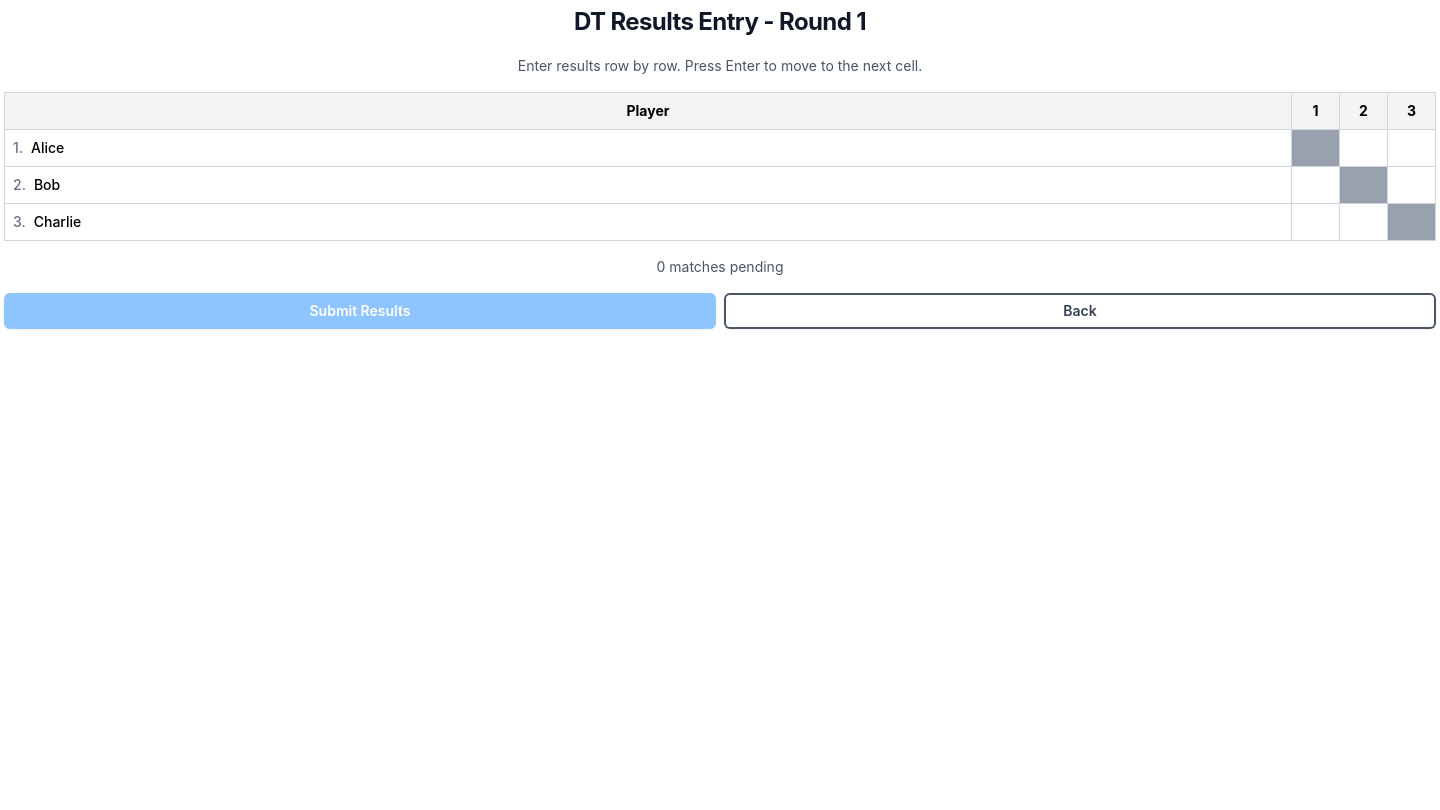
Test: BulkMatchEntry › Draw Detection › should show winner selection dialog when scores are equal
In the 1st number field: (1364, 148) [1340, 136, 1387, 160], type "5"
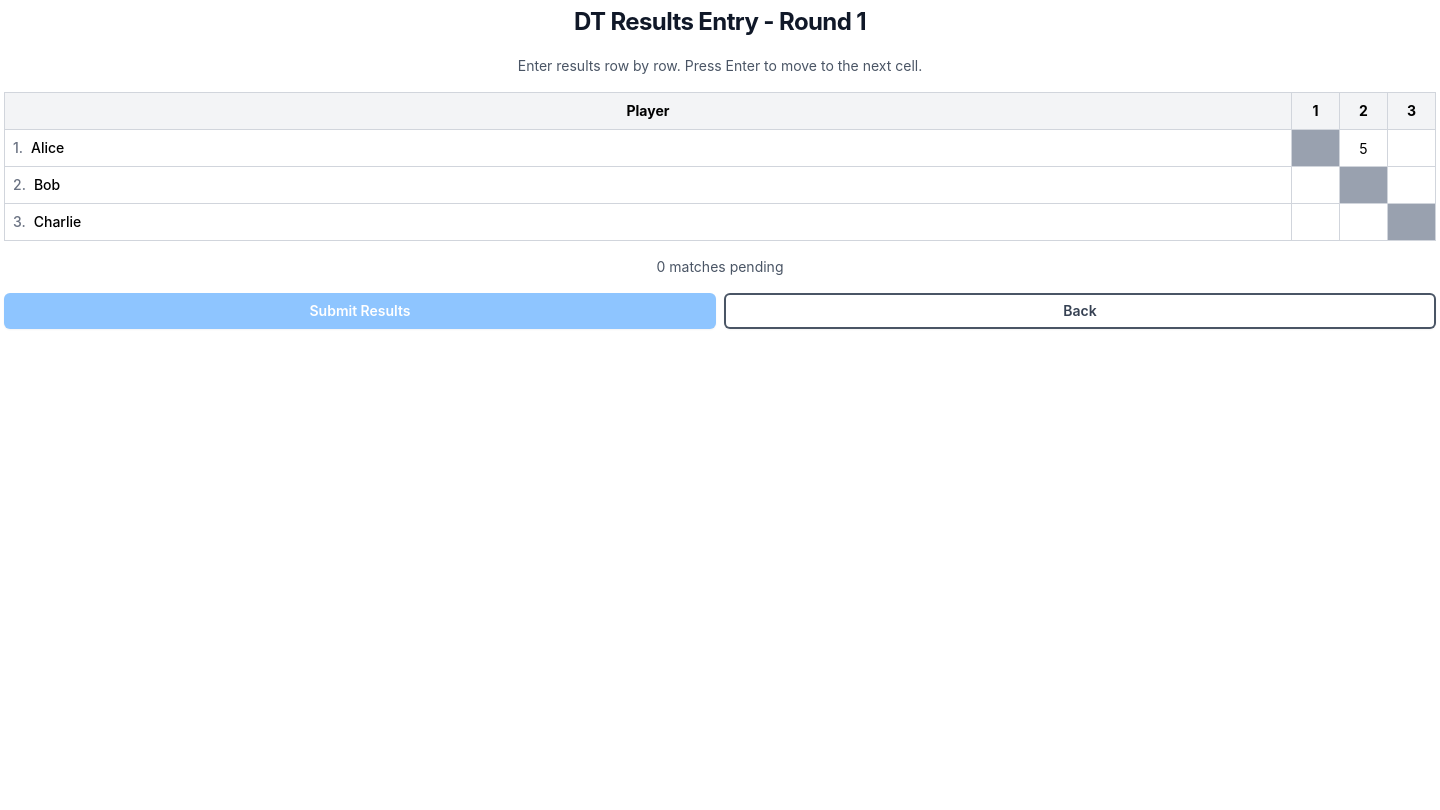
// Bob's score against Alice (row 1, col 0)
In the 3rd number field: (1316, 185) [1292, 172, 1339, 198], type "5"
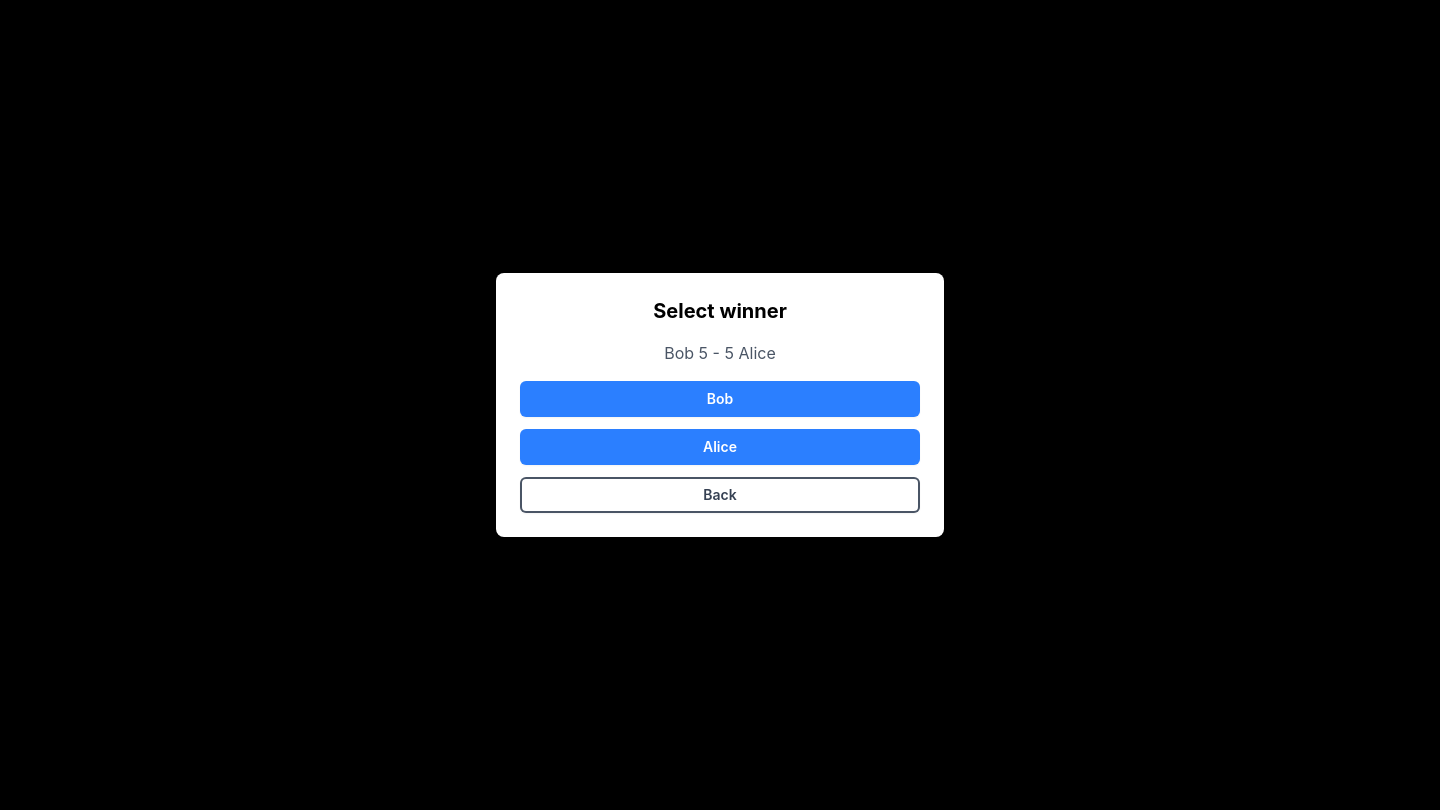
Check: the heading "Select winner" is shown, box [653, 299, 787, 323]
Check: the text "Bob 5 - 5 Alice" is shown, box [664, 343, 776, 363]
